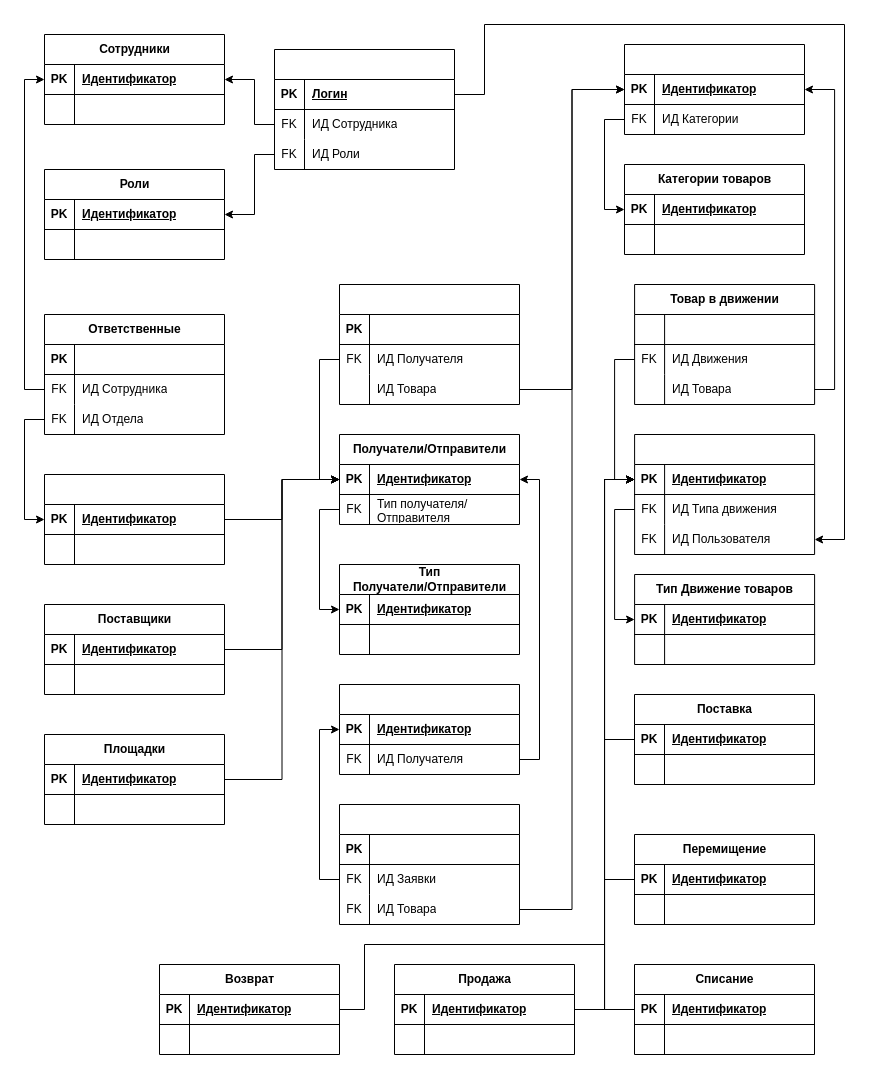
Image size: 870x1072. Some labels were removed from this diagram. The box of each missing label's shape, as (x1, y1, x2, y2) in pixels:
Движение товаров: (634, 434, 815, 554)
Заявка на получение товара: (338, 684, 520, 774)
Отделы: (44, 474, 224, 564)
Пользователи: (274, 48, 454, 170)
Склад Получателя/Отправителя: (338, 284, 520, 404)
Товар в заявке: (338, 804, 520, 924)
Товары: (624, 44, 804, 134)
